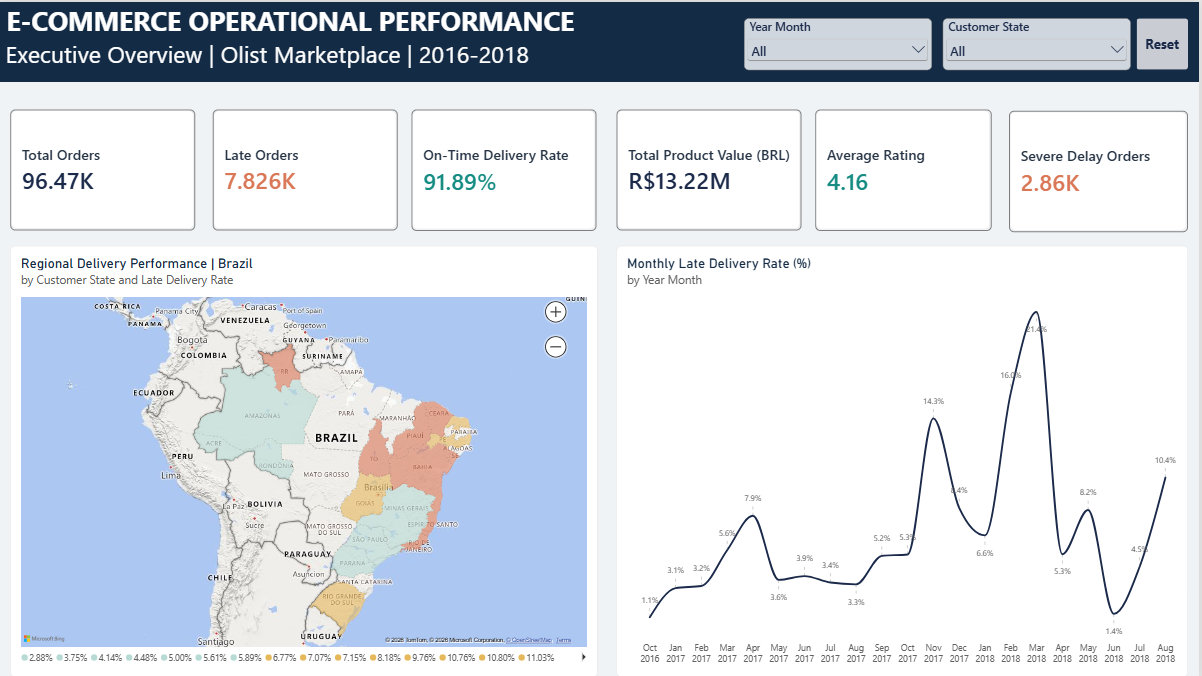

This screenshot's page, from the dashboard's own definition file:
{"tool":"powerbi","page":{"name":"Executive Overview","canvas":[1920,1080],"ordinal":0},"visuals":[{"type":"cardVisual","fields":{"Data":["_measure.Average Review Score"]},"box":[1306,172,282,194],"z":0},{"type":"cardVisual","fields":{"Data":["_measure.Late Orders"]},"box":[341.7,172.9,296.4,193.5],"z":1000},{"type":"cardVisual","fields":{"Data":["_measure.Total Orders"]},"box":[18,172,296.4,193.5],"z":2000},{"type":"cardVisual","fields":{"Data":["_measure.Total Product Value Display"]},"box":[988,172,296.4,193.5],"z":3000},{"type":"cardVisual","fields":{"Data":["_measure.Severe Delay Orders"]},"box":[1616,173.7,286,194],"z":4000},{"type":"textbox","box":[0,0,1920.4,127.6],"z":5000},{"type":"cardVisual","fields":{"Data":["_measure.On-Time Delivery Rate"]},"box":[660,172,296,194],"z":6000},{"type":"filledMap","title":"Regional Delivery Performance | Brazil","fields":{"Category":["geography_performance.customer_state"],"Series":["geography_performance.Late Delivery Rate Display"]},"box":[18,390,940,598],"z":7000},{"type":"lineChart","title":"Monthly Late Delivery Rate (%)","fields":{"Category":["order_performance.Year Month"],"Y":["_measure.Monthly Late Delivery Rate"]},"box":[988.1,390.9,913.9,597.2],"z":8000},{"type":"slicer","fields":{"Values":["order_performance.Year Month"]},"box":[1192.5,25,300.4,83.2],"z":9000},{"type":"slicer","fields":{"Values":["order_performance.customer_state"]},"box":[1510,25,300.4,83.2],"z":10000},{"type":"actionButton","box":[1820,25,82.5,82.5],"z":11000}]}

Visuals, with their boxes in screenshot pixels (x1, y1, x2, y2), scaled from the page's 1920x1080 canvas onto the 1202x676 screenshot:
cardVisual - _measure.Average Review Score: region(818, 108, 994, 229)
cardVisual - _measure.Late Orders: region(214, 108, 399, 229)
cardVisual - _measure.Total Orders: region(11, 108, 197, 229)
cardVisual - _measure.Total Product Value Display: region(619, 108, 804, 229)
cardVisual - _measure.Severe Delay Orders: region(1012, 109, 1191, 230)
textbox: region(0, 0, 1201, 80)
cardVisual - _measure.On-Time Delivery Rate: region(413, 108, 598, 229)
"Regional Delivery Performance | Brazil" filledMap: region(11, 244, 600, 618)
"Monthly Late Delivery Rate (%)" lineChart: region(619, 245, 1191, 618)
slicer - order_performance.Year Month: region(747, 16, 935, 68)
slicer - order_performance.customer_state: region(945, 16, 1133, 68)
actionButton: region(1139, 16, 1191, 67)
